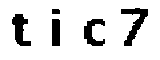7: (117, 4, 151, 51)
c: (82, 16, 110, 51)
i: (45, 1, 68, 51)
t: (6, 11, 34, 50)
